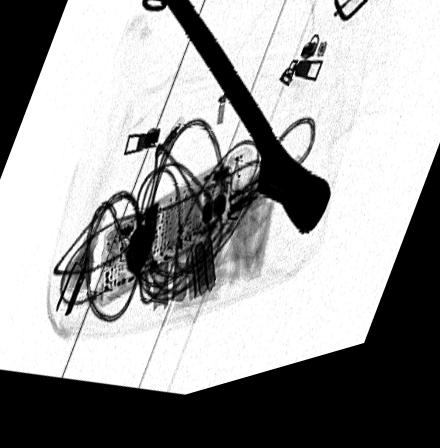Wrench: (158, 0, 332, 256)
